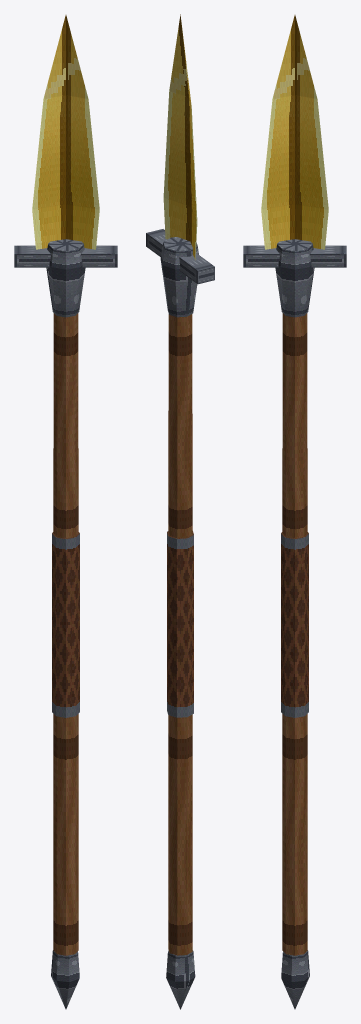
Rendered from lanca_de_ouro.glb.
3 views of the same model, side by side, from view 1: azimuth 90°, elevation 25°; view 2: azimuth 210°, elevation 25°; view 3: azimuth 270°, elevation 25° (orthographic).
Visible parts, largest first — view 1: lanca_de_ouro; view 2: lanca_de_ouro; view 3: lanca_de_ouro.
Part boxes in pixels (x1,y1,x2,y2): lanca_de_ouro: [14, 15, 117, 1009]; lanca_de_ouro: [146, 14, 214, 1009]; lanca_de_ouro: [243, 15, 346, 1009].
Bounding box in the file's own units: 0.088 × 2.34 × 0.22.
1 material, 1 textured.
